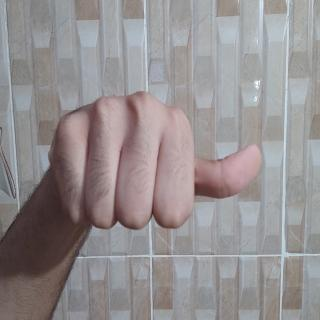ALIF: (64, 67, 179, 320)
